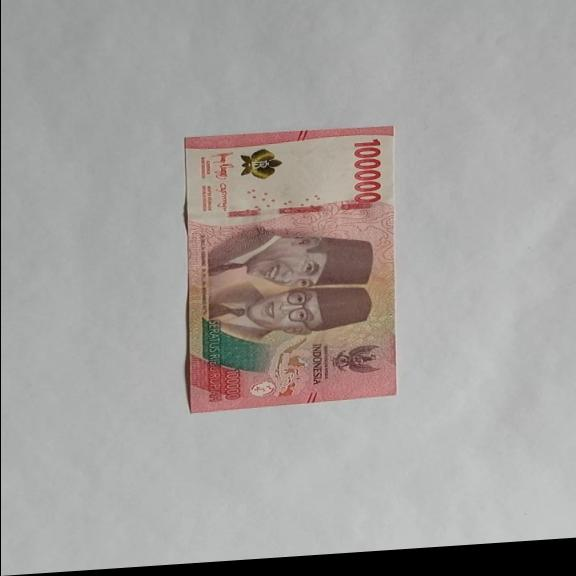Kertas: (182, 122, 398, 415), (351, 137, 385, 206)
